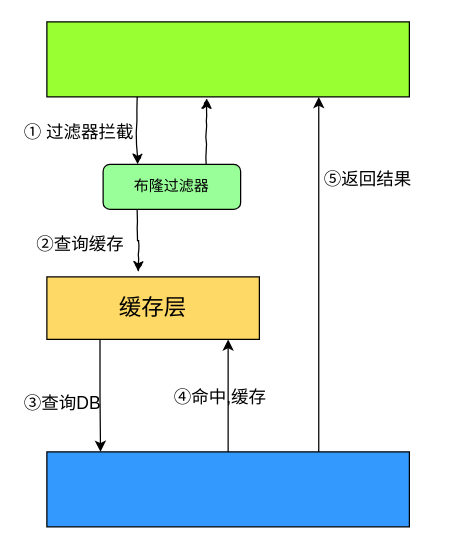
The diagram is 455 pixels wide and 549 high, and some of its shapes have lost their labels. The centre of each missing label's shape, as x and y in pixels:
DB层: point (227, 489)
客户端: point (227, 59)
